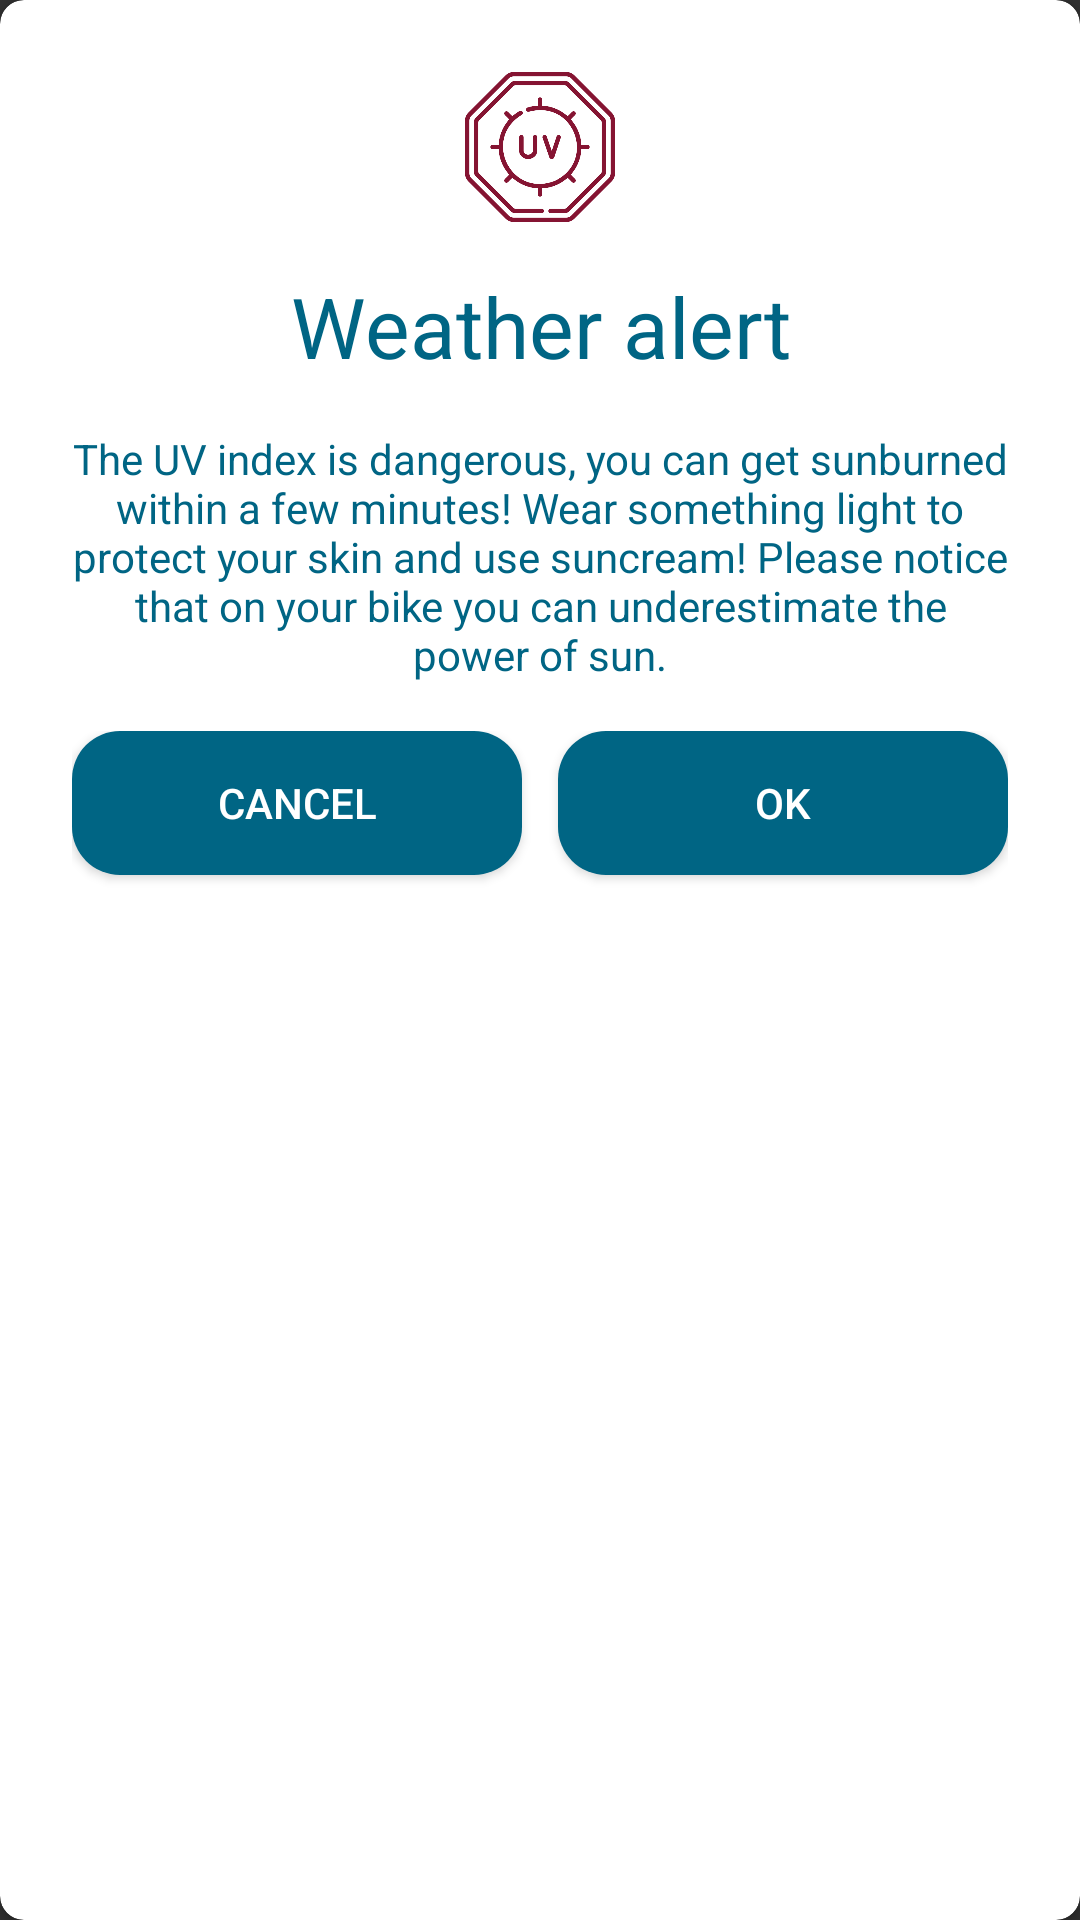

Icons on this 1080w x 1920h Android screen, each with the point to tap as point (x, y):
uv alert: point (540, 147)
